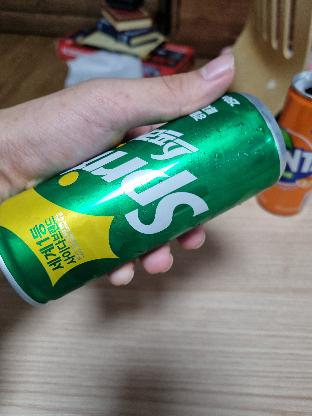Can: (10, 82, 270, 306)
